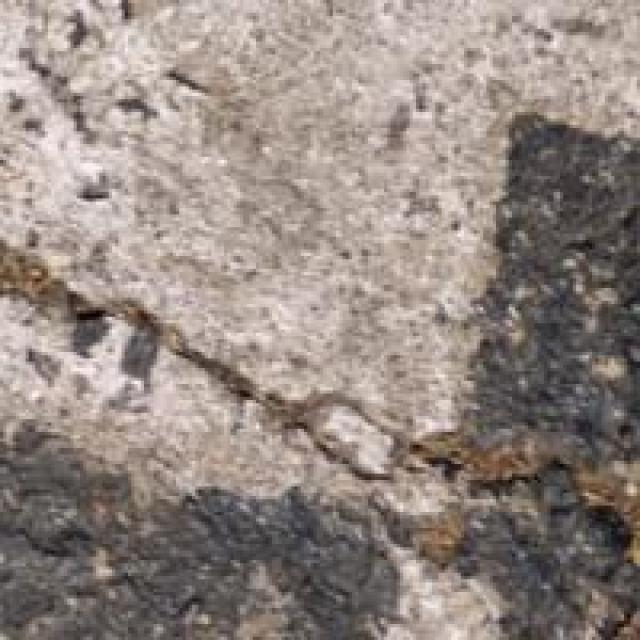crack: (4, 231, 634, 564)
